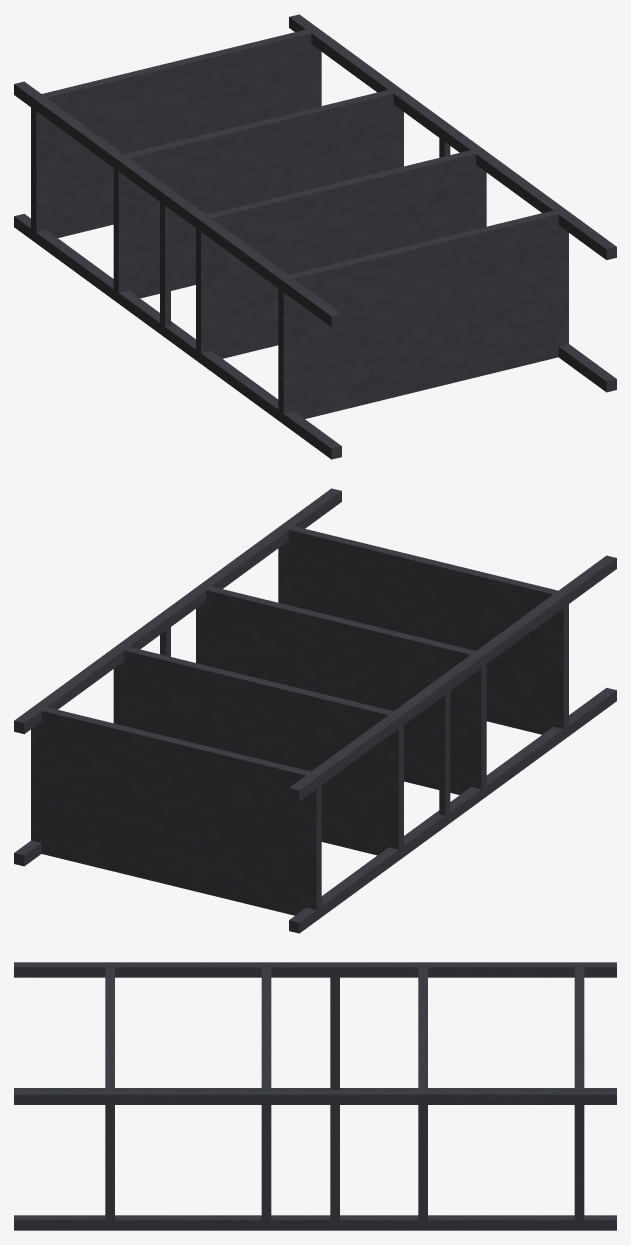
Rendered from shelf_metal.obj.
The picture shows the model from 3 angles, top to bottom: view 1: azimuth 30°, elevation 25°; view 2: azimuth 150°, elevation 25°; view 3: azimuth 270°, elevation 25°; orthographic projection. The views are drawn at different scales.
Bounding box in the file's own units: 0.96 × 0.46 × 1.85.
1 material, 1 textured.
